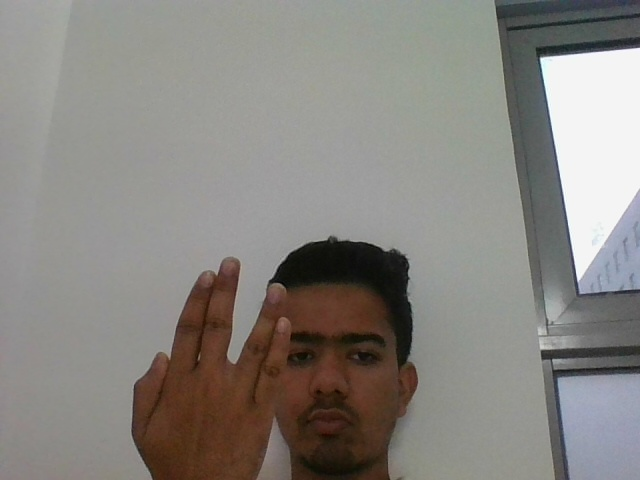livelong: (131, 256, 290, 480)
